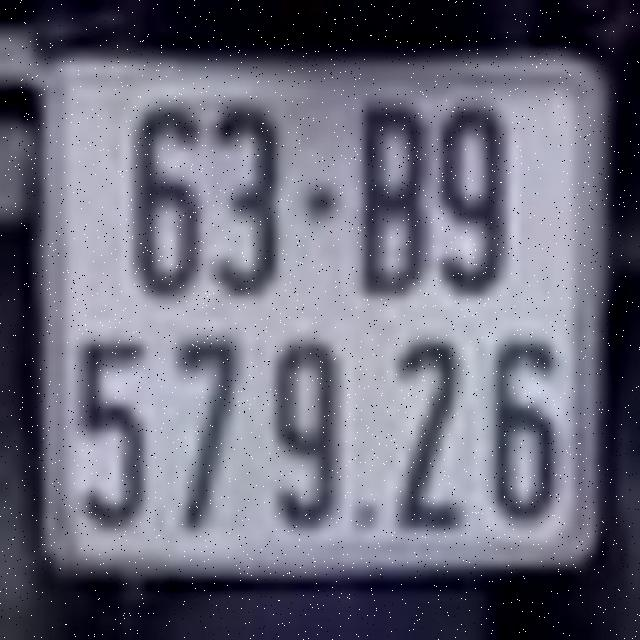2: (393, 335, 466, 532)
3: (211, 100, 281, 298)
5: (75, 335, 150, 531)
6: (130, 98, 203, 298), (492, 332, 561, 524)
7: (174, 334, 238, 531)
9: (436, 96, 511, 298), (271, 334, 340, 530)
B: (357, 95, 429, 298)
